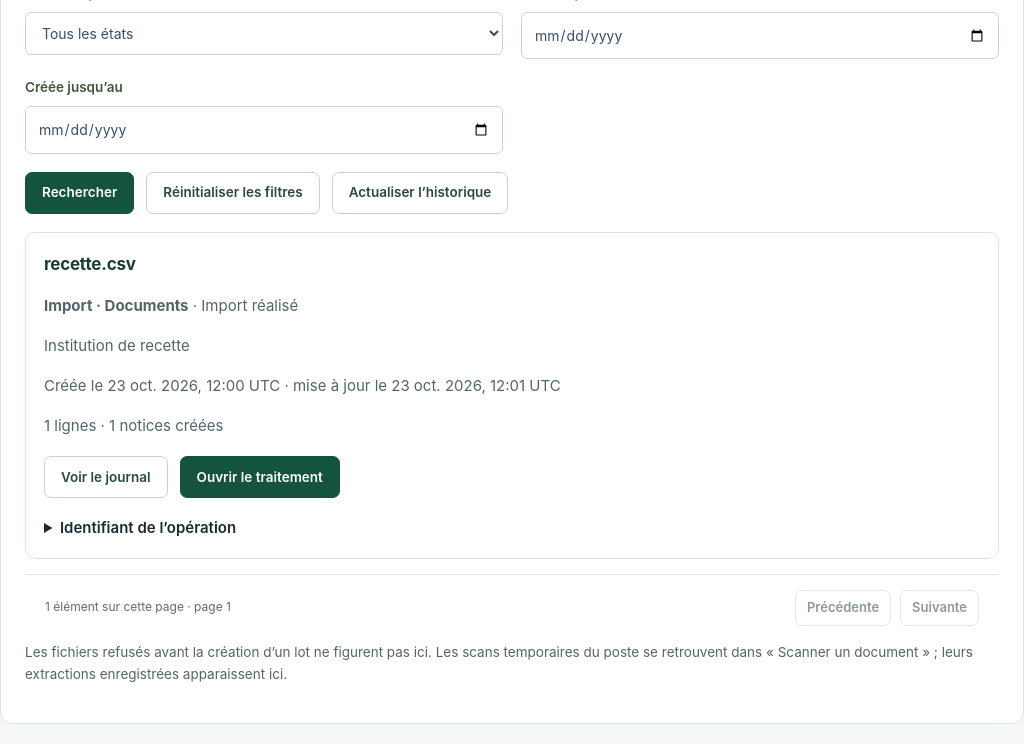
Test: ouvre un import depuis l’historique sans nouvelle analyse ni confirmation automatique
The width and height of the screenshot is (1024, 744).
(page scrolled)
Expected: the heading "recette.csv" is shown, [44, 254, 136, 274]
Click the button "Ouvrir le traitement".
click(260, 477)  # box [180, 456, 340, 498]
(page scrolled)
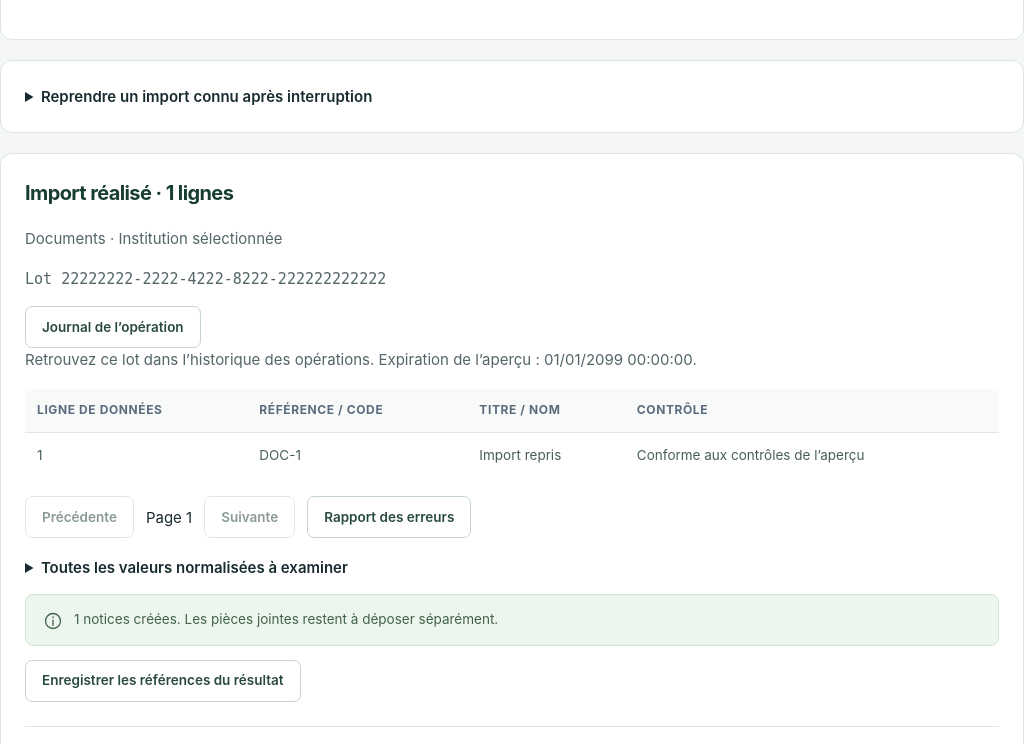
Expected: the text "Import repris" is shown, [467, 432, 625, 478]
Expected: the text "Retrouvez ce lot dans l’historique" is shown, [25, 350, 544, 370]
